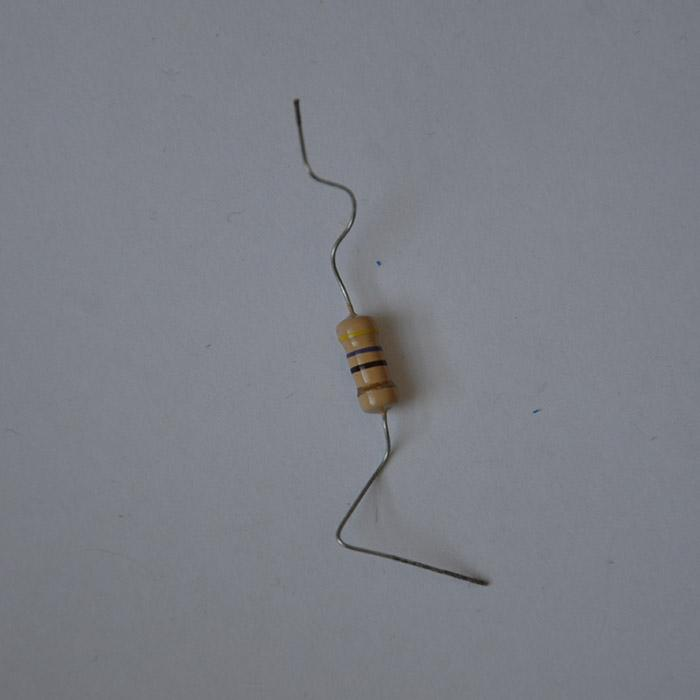resistor: (335, 311, 398, 412)
